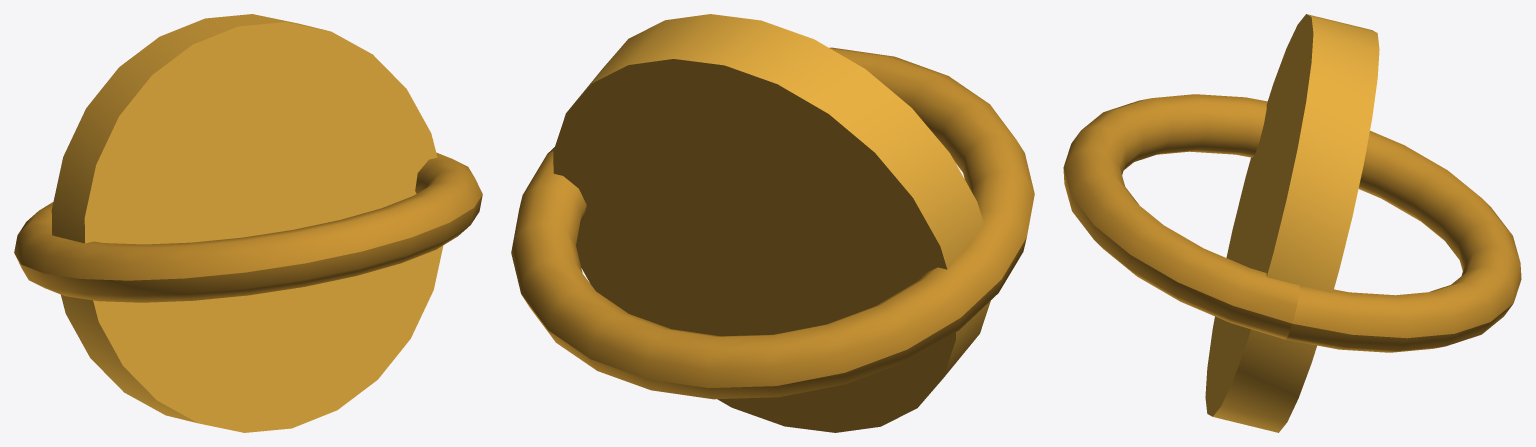
Rendered from held-item.glb.
3 renders of one model, left to right at view 1: azimuth 30°, elevation 25°; view 2: azimuth 150°, elevation 25°; view 3: azimuth 270°, elevation 25°, orthographic. The views are drawn at different scales.
Visible parts, largest first — view 1: coin; view 2: coin; view 3: coin.
Boxes of the visible parts, x1,y1,x2,y2 form: coin: (14, 14, 482, 432); coin: (511, 14, 1034, 432); coin: (1063, 14, 1521, 432).
Bounding box in the file's own units: 0.194 × 0.1714 × 0.1873.
